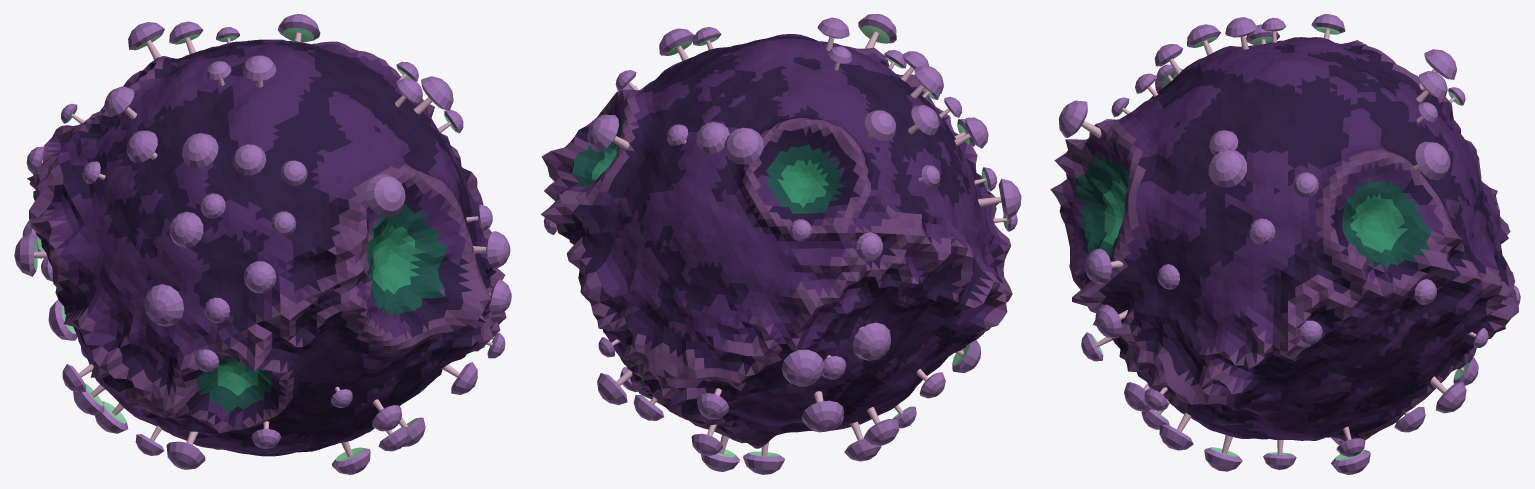
File: micelia.obj
3 renders of one model, left to right at view 1: azimuth 30°, elevation 25°; view 2: azimuth 150°, elevation 25°; view 3: azimuth 270°, elevation 25°, orthographic. The views are drawn at different scales.
Parts seen in each view (by area): view 1: micelia_|_cordilleras_y_crateres, Micelia_|_hongo_gigante_32, Micelia_|_hongo_gigante_03, Micelia_|_hongo_gigante_40, Micelia_|_hongo_gigante_46, Micelia_|_hongo_gigante_25, Micelia_|_hongo_gigante_57, Micelia_|_hongo_gigante_56, Micelia_|_hongo_gigante_14, Micelia_|_hongo_gigante_38, Micelia_|_hongo_gigante_02, Micelia_|_hongo_gigante_26 (+18 smaller); view 2: micelia_|_cordilleras_y_crateres, Micelia_|_hongo_gigante_09, Micelia_|_hongo_gigante_14, Micelia_|_hongo_gigante_51, Micelia_|_hongo_gigante_58, Micelia_|_hongo_gigante_57, Micelia_|_hongo_gigante_32, Micelia_|_hongo_gigante_03, Micelia_|_hongo_gigante_18, Micelia_|_hongo_gigante_19, Micelia_|_hongo_gigante_44, Micelia_|_hongo_gigante_17 (+14 smaller); view 3: micelia_|_cordilleras_y_crateres, Micelia_|_hongo_gigante_56, Micelia_|_hongo_gigante_57, Micelia_|_hongo_gigante_32, Micelia_|_hongo_gigante_06, Micelia_|_hongo_gigante_10, Micelia_|_hongo_gigante_38, Micelia_|_hongo_gigante_39, Micelia_|_hongo_gigante_23, Micelia_|_hongo_gigante_51, Micelia_|_hongo_gigante_27, Micelia_|_hongo_gigante_18 (+11 smaller).
Part boxes in pixels (x1,y1,x2,y2): micelia_|_cordilleras_y_crateres: (27,39,506,456); Micelia_|_hongo_gigante_32: (366,174,405,217); Micelia_|_hongo_gigante_03: (144,284,183,326); Micelia_|_hongo_gigante_40: (182,133,218,167); Micelia_|_hongo_gigante_46: (169,211,203,248); Micelia_|_hongo_gigante_25: (166,431,205,469); Micelia_|_hongo_gigante_57: (278,14,320,42); Micelia_|_hongo_gigante_56: (413,76,453,114); Micelia_|_hongo_gigante_14: (14,233,47,276); Micelia_|_hongo_gigante_38: (332,441,370,474); Micelia_|_hongo_gigante_02: (232,144,266,175); Micelia_|_hongo_gigante_26: (243,261,276,293); micelia_|_cordilleras_y_crateres: (541,34,1012,448); Micelia_|_hongo_gigante_09: (781,349,824,386); Micelia_|_hongo_gigante_14: (852,322,890,360); Micelia_|_hongo_gigante_51: (724,127,763,164); Micelia_|_hongo_gigante_58: (801,391,844,432); Micelia_|_hongo_gigante_57: (587,114,629,151); Micelia_|_hongo_gigante_32: (858,14,896,48); Micelia_|_hongo_gigante_03: (978,178,1021,218); Micelia_|_hongo_gigante_18: (696,122,729,153); Micelia_|_hongo_gigante_19: (863,407,899,445); Micelia_|_hongo_gigante_44: (743,442,784,474); Micelia_|_hongo_gigante_17: (865,110,895,140); micelia_|_cordilleras_y_crateres: (1050,37,1518,441); Micelia_|_hongo_gigante_56: (1208,149,1246,187); Micelia_|_hongo_gigante_57: (1413,141,1450,180); Micelia_|_hongo_gigante_32: (1058,100,1101,138); Micelia_|_hongo_gigante_06: (1085,248,1123,284); Micelia_|_hongo_gigante_10: (1430,376,1466,413); Micelia_|_hongo_gigante_38: (1204,435,1242,471); Micelia_|_hongo_gigante_39: (1095,304,1127,338); Micelia_|_hongo_gigante_23: (1159,412,1193,450); Micelia_|_hongo_gigante_51: (1419,49,1456,90); Micelia_|_hongo_gigante_27: (1331,440,1370,474); Micelia_|_hongo_gigante_18: (1416,71,1447,102).
Size of the model in its own units: 2.36 by 2.34 by 2.35.
